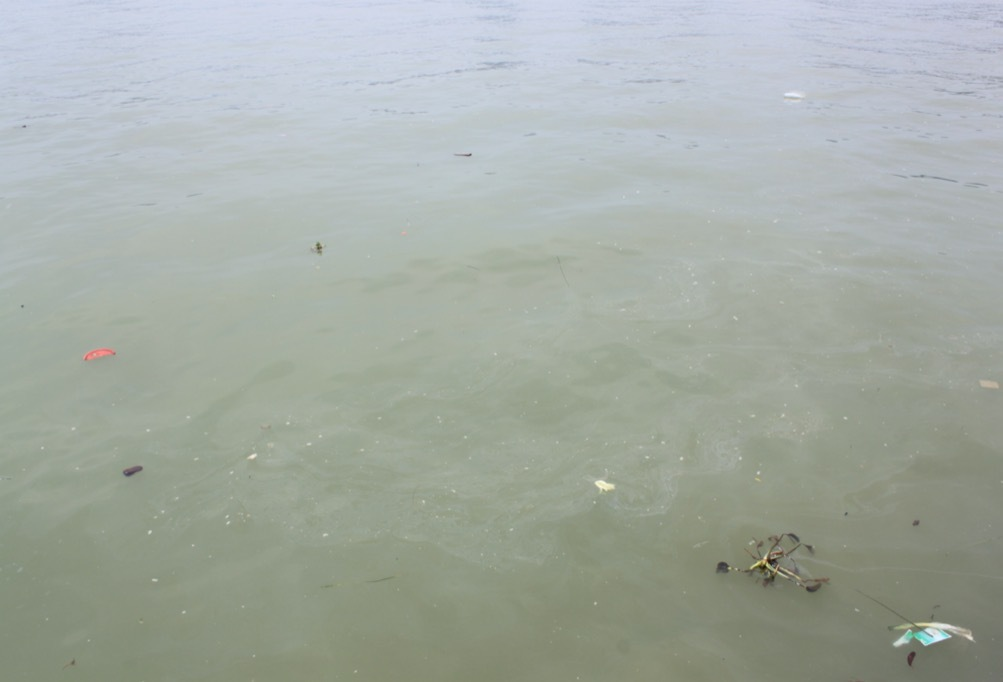organic: (702, 518, 837, 608), (550, 245, 575, 297), (354, 567, 404, 587), (461, 256, 495, 284), (54, 650, 83, 682), (315, 570, 342, 595), (305, 237, 334, 260), (450, 145, 477, 162), (16, 118, 35, 137), (908, 513, 924, 535), (13, 298, 31, 315)
plastic: (70, 338, 127, 375), (578, 465, 628, 507), (911, 619, 957, 653), (777, 78, 815, 118), (117, 457, 151, 489), (970, 369, 1003, 400), (889, 623, 917, 656), (393, 227, 411, 245)
